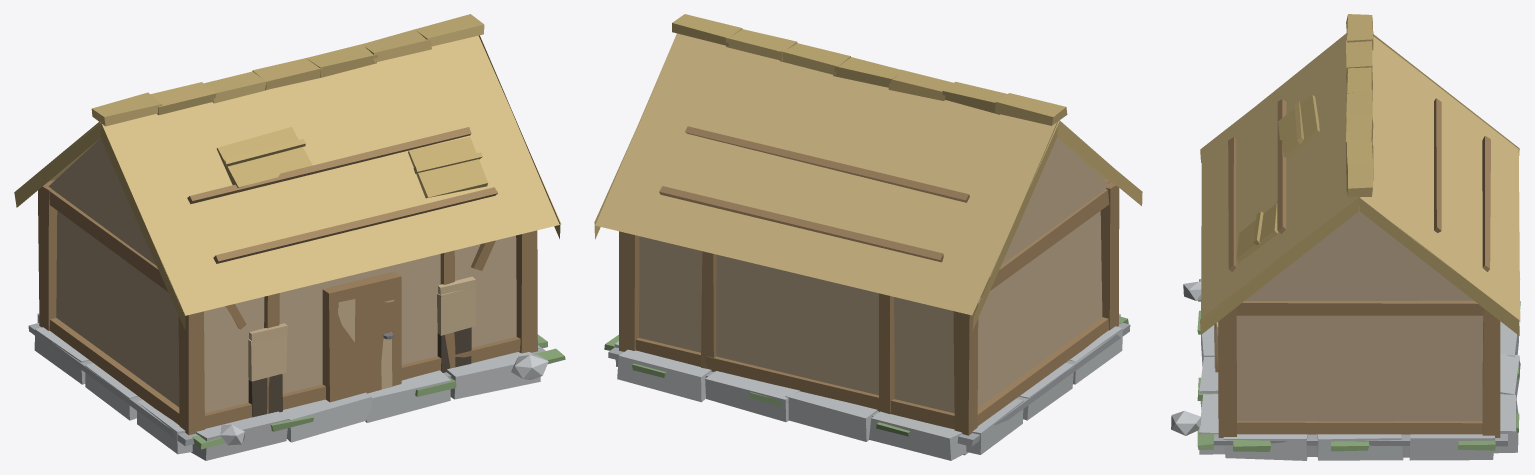
File: townhall_a.glb
The picture shows the model from 3 angles, left to right: view 1: azimuth 30°, elevation 25°; view 2: azimuth 150°, elevation 25°; view 3: azimuth 270°, elevation 25°; orthographic projection. The views are drawn at different scales.
Visible parts, largest first — view 1: roof, walls, frame, plinth, ridge, door_arch, roof_patch, roof_battens, gable, win_shut, roof_end, win_hole (+4 smaller); view 2: roof, walls, frame, plinth, ridge, roof_battens, gable, roof_end, plinth_top, plinth_moss; view 3: roof, walls, frame, gable, plinth, roof_end, ridge, roof_battens, roof_patch, plinth_moss, stones, plinth_top.
Part boxes in pixels (x1=…): roof: x1=49, y1=35, x2=561, y2=315; walls: x1=56, y1=211, x2=516, y2=413; frame: x1=38, y1=180, x2=537, y2=434; plinth: x1=34, y1=313, x2=540, y2=460; ridge: x1=91, y1=14, x2=484, y2=126; door_arch: x1=322, y1=271, x2=401, y2=402; roof_patch: x1=216, y1=127, x2=487, y2=198; roof_battens: x1=187, y1=127, x2=497, y2=263; gable: x1=48, y1=138, x2=156, y2=265; win_shut: x1=248, y1=276, x2=476, y2=381; roof_end: x1=14, y1=35, x2=560, y2=329; win_hole: x1=248, y1=327, x2=471, y2=417; roof: x1=595, y1=33, x2=1130, y2=315; walls: x1=639, y1=211, x2=1102, y2=413; frame: x1=619, y1=178, x2=1119, y2=435; plinth: x1=614, y1=313, x2=1122, y2=460; ridge: x1=672, y1=14, x2=1067, y2=125; roof_battens: x1=659, y1=126, x2=969, y2=262; gable: x1=992, y1=138, x2=1109, y2=271; roof_end: x1=594, y1=77, x2=1142, y2=330; plinth_top: x1=608, y1=322, x2=1130, y2=446; plinth_moss: x1=604, y1=317, x2=1128, y2=436; roof: x1=1201, y1=33, x2=1520, y2=321; walls: x1=1236, y1=315, x2=1483, y2=434; frame: x1=1218, y1=300, x2=1500, y2=437; gable: x1=1245, y1=196, x2=1473, y2=300; plinth: x1=1199, y1=279, x2=1519, y2=460; roof_end: x1=1200, y1=34, x2=1519, y2=335; ridge: x1=1345, y1=14, x2=1373, y2=196; roof_battens: x1=1228, y1=98, x2=1490, y2=271; roof_patch: x1=1236, y1=95, x2=1319, y2=262; plinth_moss: x1=1197, y1=279, x2=1520, y2=451; stones: x1=1171, y1=281, x2=1201, y2=435; plinth_top: x1=1212, y1=393, x2=1507, y2=446.
Size of the model in its own units: 4.25 by 3.2 by 3.58.
